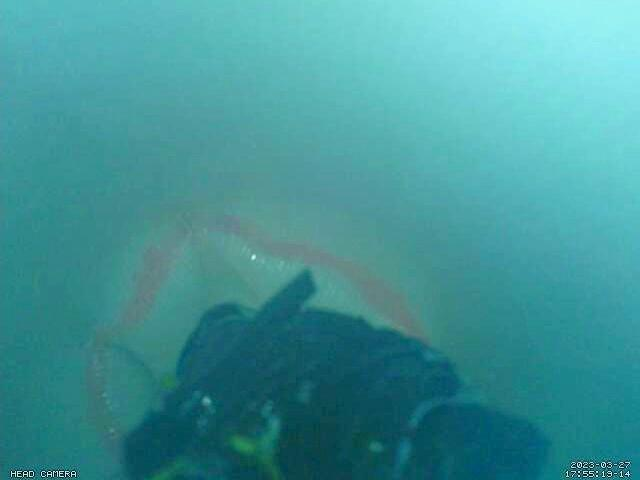head: (84, 210, 425, 465)
